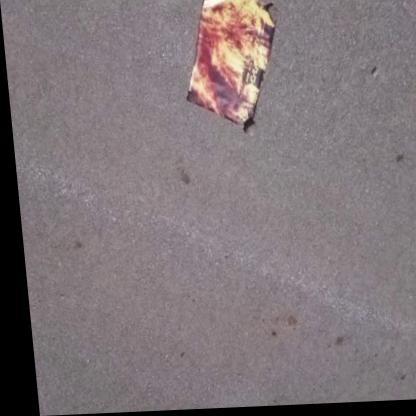fire-poster: (175, 0, 286, 141)
